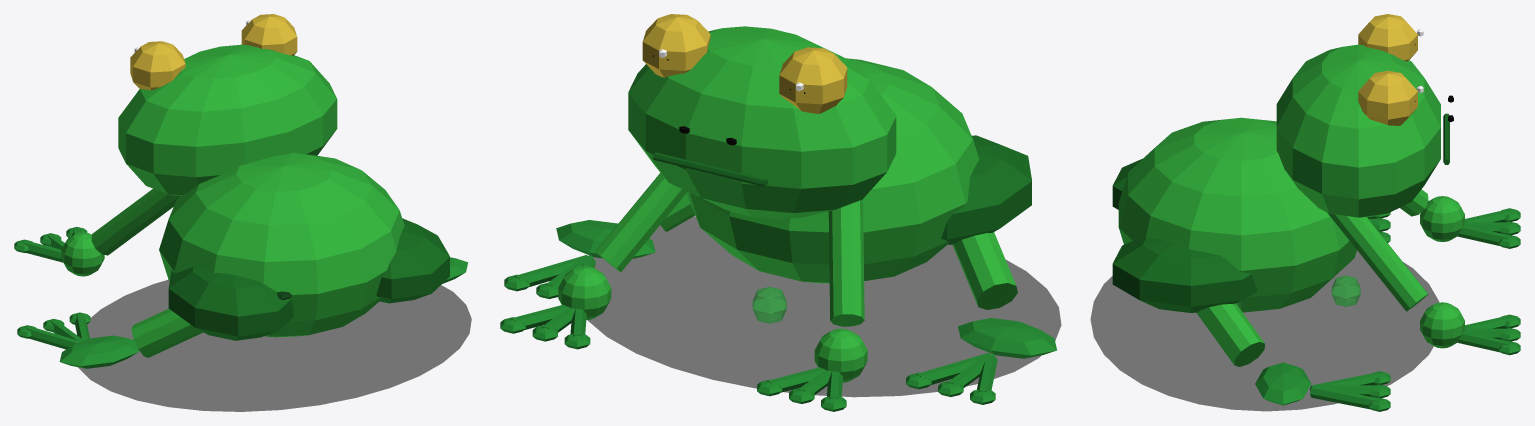
The model's file is frog_sitting_still.obj.
The picture shows the model from 3 angles, left to right: view 1: azimuth 30°, elevation 25°; view 2: azimuth 150°, elevation 25°; view 3: azimuth 270°, elevation 25°; orthographic projection. The views are drawn at different scales.
Visible parts, largest first — view 1: Body_squat_round_green, Guide_Ground_Shadow, Head_wide_alert_green, Left_folded_thigh, Right_folded_thigh, Left_front_arm_bent, Eye_bulge_1, Left_rear_lower_leg_folded, Left_rear_foot_flat, Eye_bulge_2, Left_front_hand, Left_rear_webbed_toes_toe_1 (+1 smaller); view 2: Guide_Ground_Shadow, Head_wide_alert_green, Body_squat_round_green, Left_folded_thigh, Left_front_arm_bent, Eye_bulge_1, Right_front_arm_bent, Eye_bulge_2, Left_rear_lower_leg_folded, Left_rear_foot_flat, Right_front_hand, Left_front_hand (+9 smaller); view 3: Guide_Ground_Shadow, Body_squat_round_green, Head_wide_alert_green, Right_folded_thigh, Right_front_arm_bent, Eye_bulge_2, Right_rear_lower_leg_folded, Eye_bulge_1, Right_rear_foot_flat, Right_front_hand, Left_front_hand, Right_rear_webbed_toes_toe_3 (+7 smaller).
Part boxes in pixels (left/top/right/bottom): Body_squat_round_green: left=159, top=152, right=404, bottom=337; Guide_Ground_Shadow: left=78, top=280, right=471, bottom=411; Head_wide_alert_green: left=118, top=44, right=337, bottom=195; Left_folded_thigh: left=168, top=266, right=293, bottom=340; Right_folded_thigh: left=376, top=218, right=449, bottom=303; Left_front_arm_bent: left=91, top=188, right=180, bottom=255; Eye_bulge_1: left=130, top=41, right=185, bottom=90; Left_rear_lower_leg_folded: left=131, top=308, right=203, bottom=357; Left_rear_foot_flat: left=59, top=335, right=138, bottom=368; Eye_bulge_2: left=241, top=14, right=297, bottom=55; Left_front_hand: left=61, top=232, right=104, bottom=276; Left_rear_webbed_toes_toe_1: left=26, top=326, right=81, bottom=349; Guide_Ground_Shadow: left=587, top=216, right=1061, bottom=397; Head_wide_alert_green: left=628, top=26, right=896, bottom=219; Body_squat_round_green: left=687, top=58, right=979, bottom=283; Left_folded_thigh: left=941, top=135, right=1031, bottom=244; Left_front_arm_bent: left=828, top=199, right=864, bottom=326; Eye_bulge_1: left=779, top=47, right=847, bottom=113; Right_front_arm_bent: left=595, top=173, right=687, bottom=272; Eye_bulge_2: left=642, top=14, right=710, bottom=77; Left_rear_lower_leg_folded: left=952, top=232, right=1017, bottom=309; Left_rear_foot_flat: left=958, top=318, right=1056, bottom=358; Right_front_hand: left=558, top=266, right=611, bottom=319; Left_front_hand: left=814, top=328, right=867, bottom=382; Guide_Ground_Shadow: left=1090, top=250, right=1438, bottom=411; Body_squat_round_green: left=1118, top=117, right=1356, bottom=312; Head_wide_alert_green: left=1276, top=44, right=1440, bottom=217; Right_folded_thigh: left=1112, top=237, right=1257, bottom=312; Right_front_arm_bent: left=1327, top=212, right=1428, bottom=311; Eye_bulge_2: left=1358, top=70, right=1417, bottom=125; Right_rear_lower_leg_folded: left=1196, top=303, right=1264, bottom=366; Eye_bulge_1: left=1358, top=14, right=1417, bottom=61; Right_rear_foot_flat: left=1255, top=362, right=1311, bottom=405; Right_front_hand: left=1420, top=302, right=1464, bottom=348; Left_front_hand: left=1420, top=196, right=1464, bottom=241; Right_rear_webbed_toes_toe_3: left=1310, top=387, right=1380, bottom=409.
Size of the model in its own units: 1.17 by 0.7215 by 1.03.
